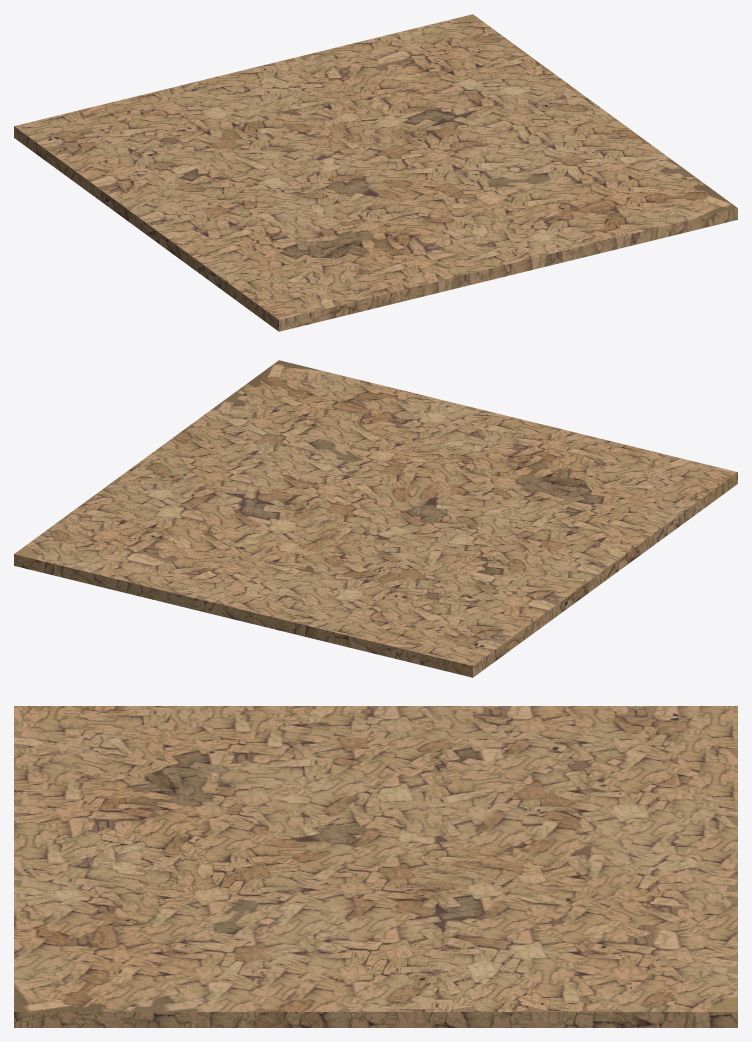
The model's file is Habitat_Level_WoodChipFloor.fbx.
3 renders of one model, top to bottom at view 1: azimuth 30°, elevation 25°; view 2: azimuth 150°, elevation 25°; view 3: azimuth 270°, elevation 25°, orthographic. The views are drawn at different scales.
Visible parts, largest first — view 1: WoodChipFloor; view 2: WoodChipFloor; view 3: WoodChipFloor.
Boxes of the visible parts, x1,y1,x2,y2 form: WoodChipFloor: (14, 14, 737, 331); WoodChipFloor: (14, 360, 737, 677); WoodChipFloor: (14, 706, 737, 1027).
Bounding box in the file's own units: 20 × 0.8326 × 20.
